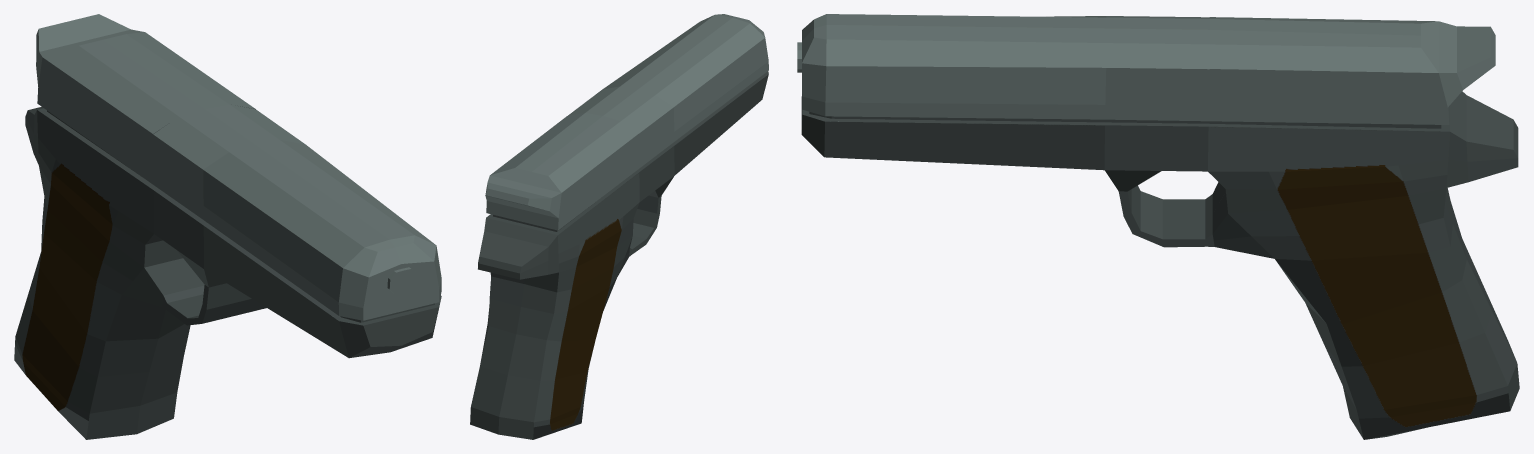
Rendered from Pistol.fbx.
3 views of the same model, side by side, from view 1: azimuth 30°, elevation 25°; view 2: azimuth 150°, elevation 25°; view 3: azimuth 270°, elevation 25° (orthographic). The views are drawn at different scales.
Visible parts, largest first — view 1: Pistol; view 2: Pistol; view 3: Pistol.
Part boxes in pixels (x1,y1,x2,y2): Pistol: (14,14,441,439); Pistol: (470,14,768,439); Pistol: (797,14,1519,439).
Bounding box in the file's own units: 76.48 × 239 × 390.
1 material, 1 textured.
